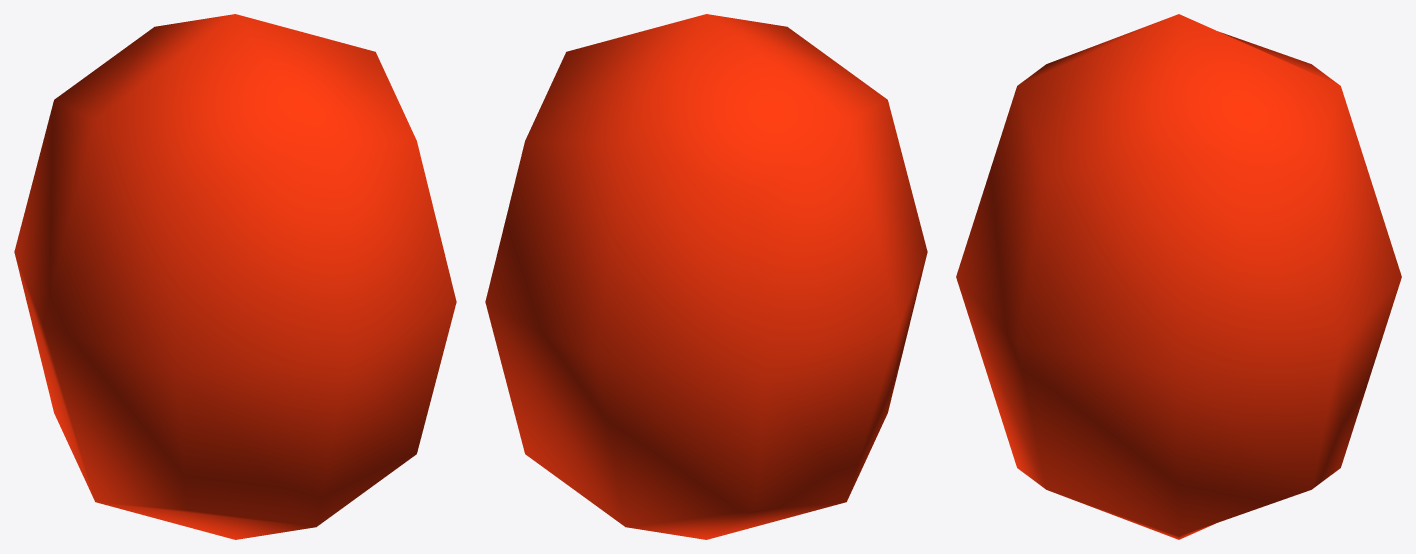
Rendered from Potion.fbx.
The picture shows the model from 3 angles, left to right: view 1: azimuth 30°, elevation 25°; view 2: azimuth 150°, elevation 25°; view 3: azimuth 270°, elevation 25°; orthographic projection.
Visible parts, largest first — view 1: Cube.001; view 2: Cube.001; view 3: Cube.001.
Part boxes in pixels (x1,y1,x2,y2): Cube.001: (14, 14, 456, 539); Cube.001: (485, 14, 927, 539); Cube.001: (956, 14, 1401, 539).
Bounding box in the file's own units: 361 × 470 × 361.
